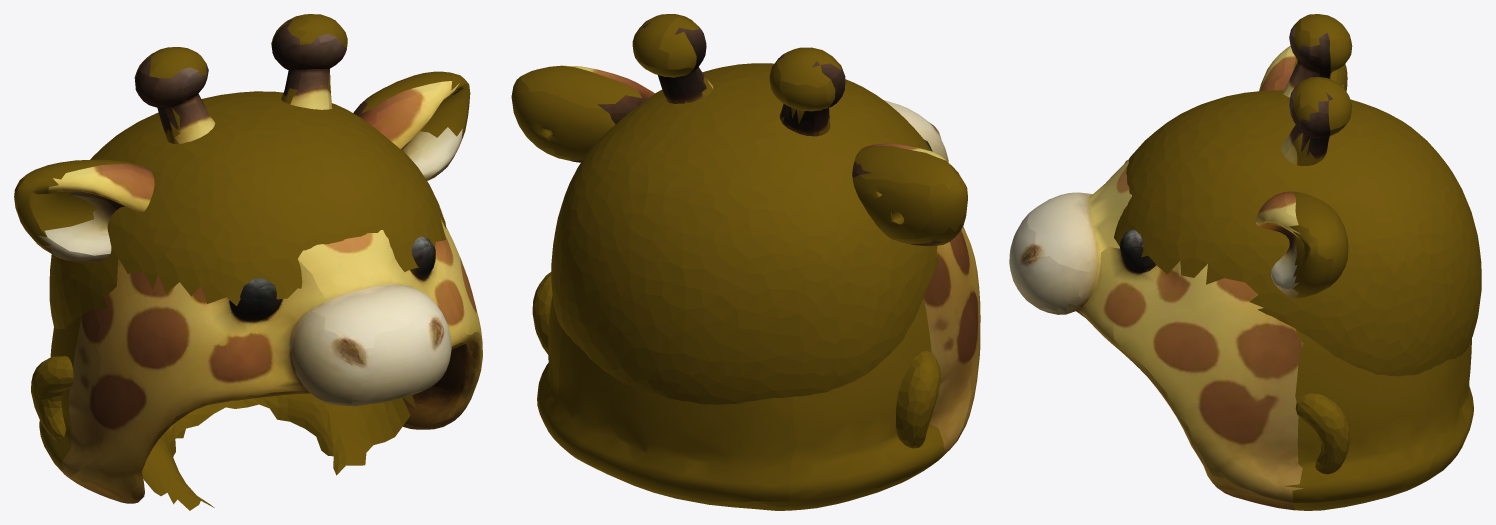
File: giraffe.glb
The picture shows the model from 3 angles, left to right: view 1: azimuth 30°, elevation 25°; view 2: azimuth 150°, elevation 25°; view 3: azimuth 270°, elevation 25°; orthographic projection. The views are drawn at different scales.
Visible parts, largest first — view 1: geometry_0, HoodAnatomicalLining; view 2: HoodAnatomicalLining, geometry_0; view 3: geometry_0, HoodAnatomicalLining.
Boxes of the visible parts, x1,y1,x2,y2 form: geometry_0: [14, 14, 482, 503]; HoodAnatomicalLining: [31, 91, 446, 510]; HoodAnatomicalLining: [532, 63, 940, 448]; geometry_0: [511, 14, 980, 510]; geometry_0: [1009, 14, 1473, 510]; HoodAnatomicalLining: [1114, 90, 1481, 474].
Bounding box in the file's own units: 0.5298 × 0.4852 × 0.5084.
2 materials, 1 textured.
